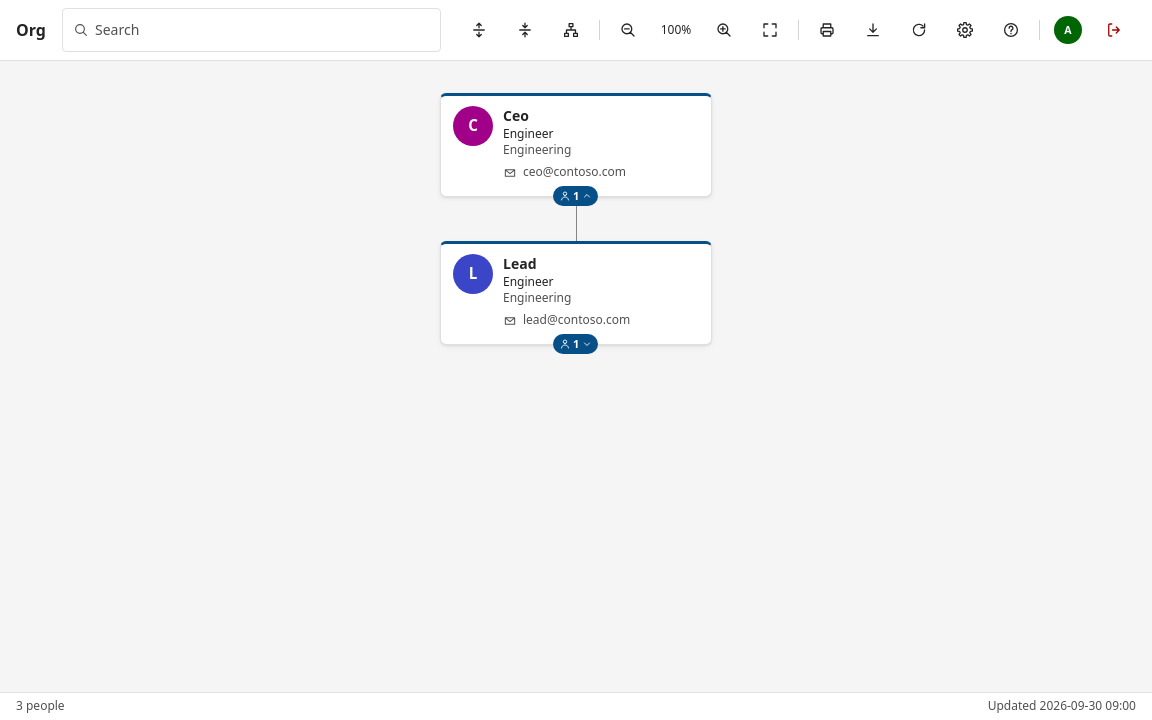
Test: OrgChartPage › the signed-in user › tells a user whom the chart leaves out that they are not shown
This screenshot has width=1152, height=720.
Expected: the footer is shown, [0,692,1151,719]
Expected: the footer does not show ""
Click the button named "Signed in as " at point(1068, 30), box [1046,8,1090,52]
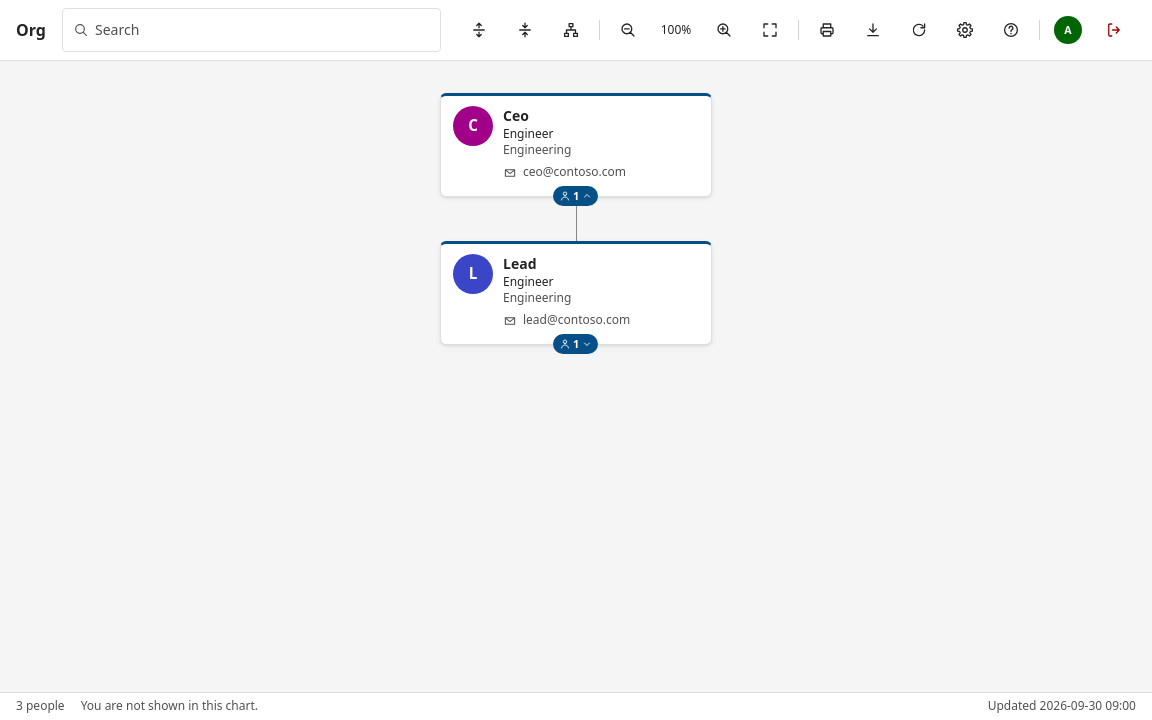
Result: the footer shows "You are not shown in this chart." at [81,697,258,714]
